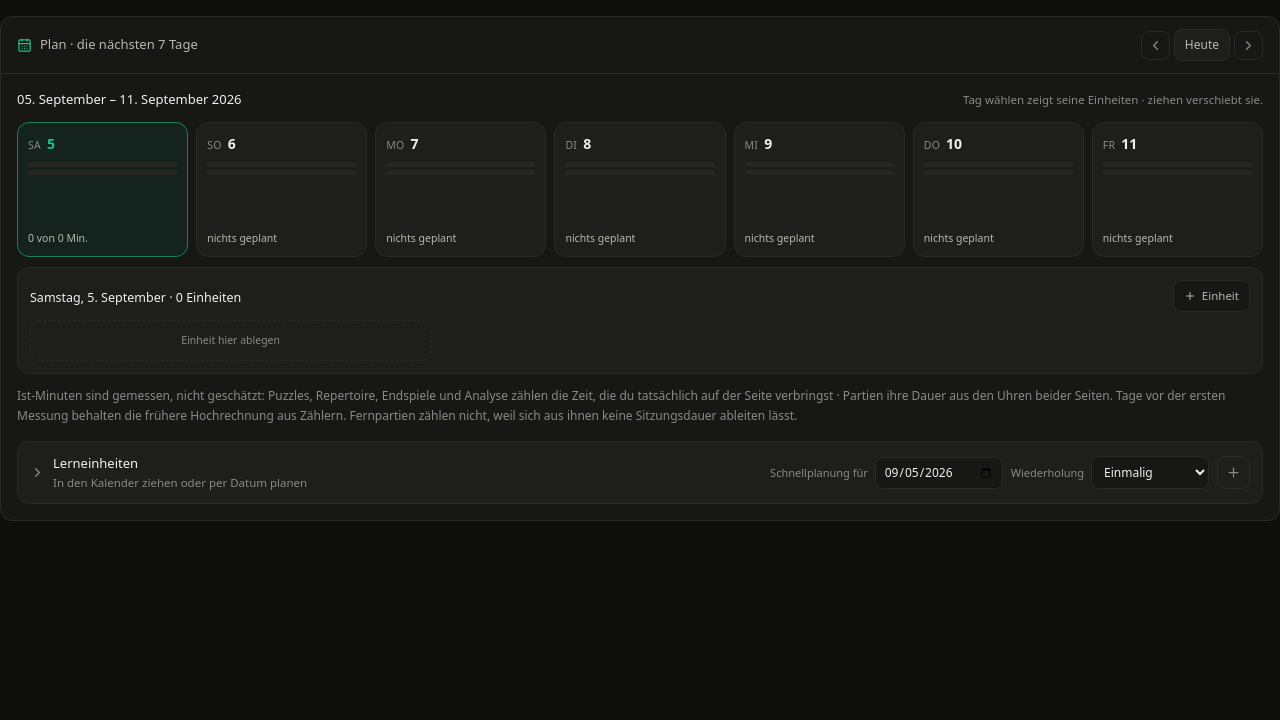
Plantafel › holt die Einheiten-Liste ins Bild, wenn „Einheit" sie aufklappt
The width and height of the screenshot is (1280, 720).
What coordinates should you click on to do the following:
click the button "Einheit"
I would click on:
 (1211, 296)
Its box is [1173, 280, 1250, 312].
(page scrolled)
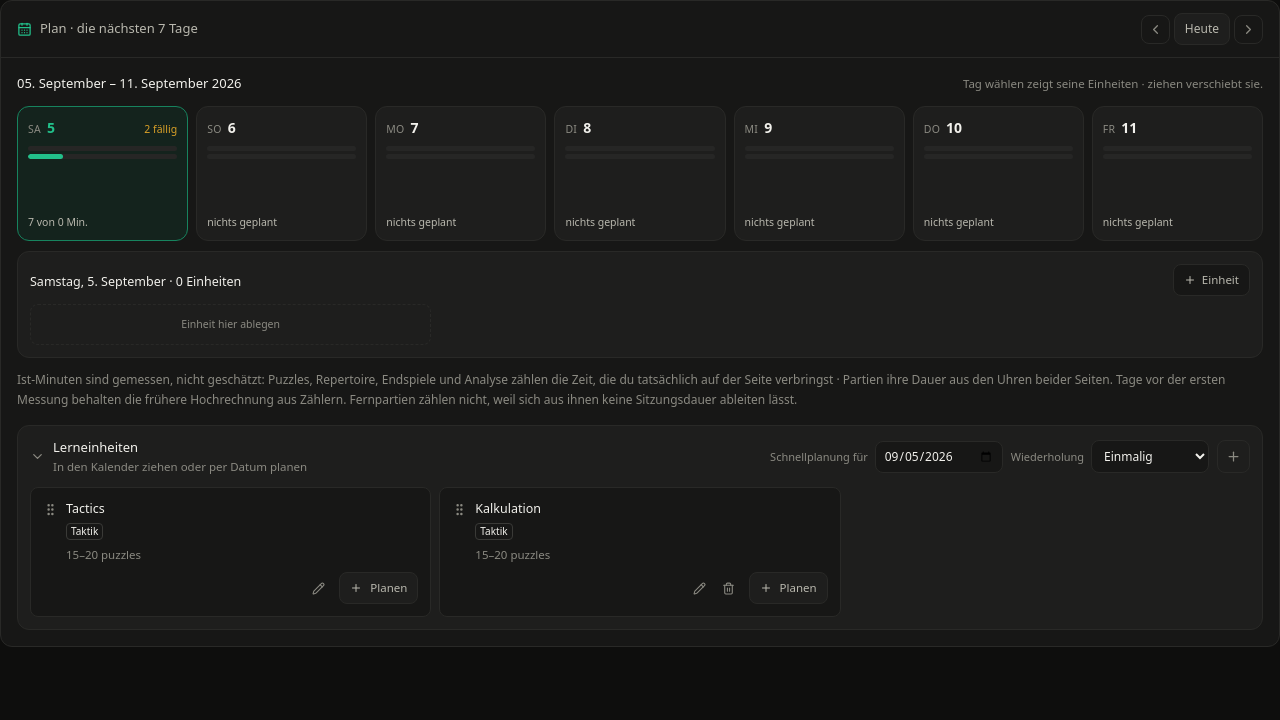
expect the element showing "Tactics Taktik 15–20 puzzles Planen" is shown: met, box [30, 487, 431, 617]
